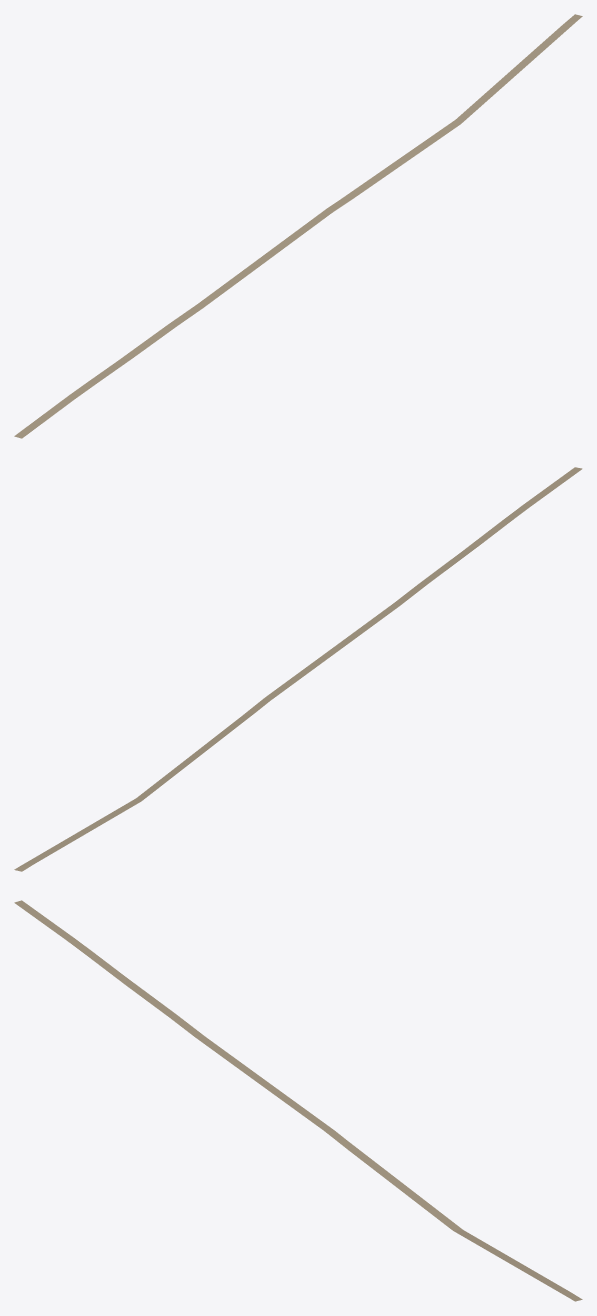
Rendered from farm_2_4_track.glb.
3 views of the same model, one above another, from view 1: azimuth 30°, elevation 25°; view 2: azimuth 210°, elevation 25°; view 3: azimuth 270°, elevation 25° (orthographic).
Parts seen in each view (by area): view 1: geometry_0; view 2: geometry_0; view 3: geometry_0.
Part boxes in pixels (x1,y1,x2,y2): geometry_0: (14, 14, 582, 438); geometry_0: (14, 467, 582, 871); geometry_0: (14, 900, 582, 1301).
Bounding box in the file's own units: 350 × 7.19 × 205.
